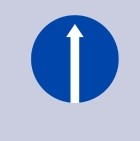Go_straight: (28, 14, 121, 104)
